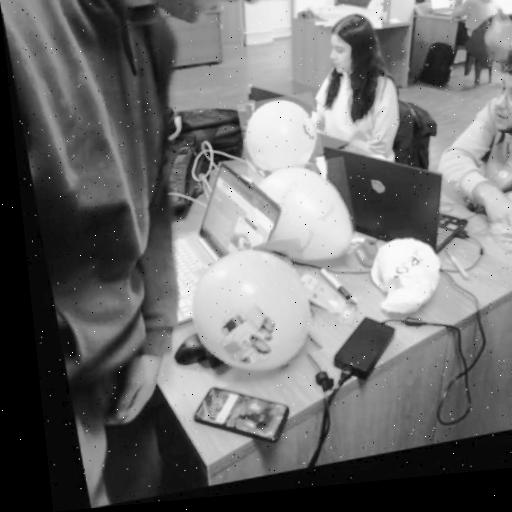balloon: (174, 242, 318, 392), (244, 162, 356, 274), (234, 96, 323, 185)
